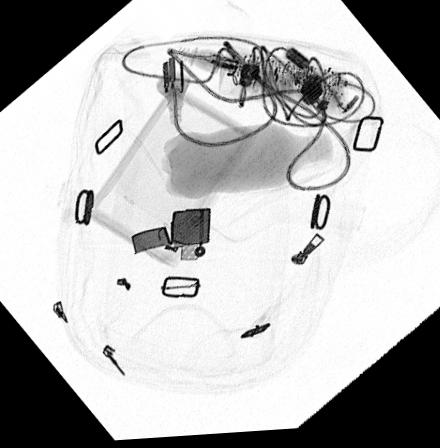Lighter: (132, 210, 210, 263)
